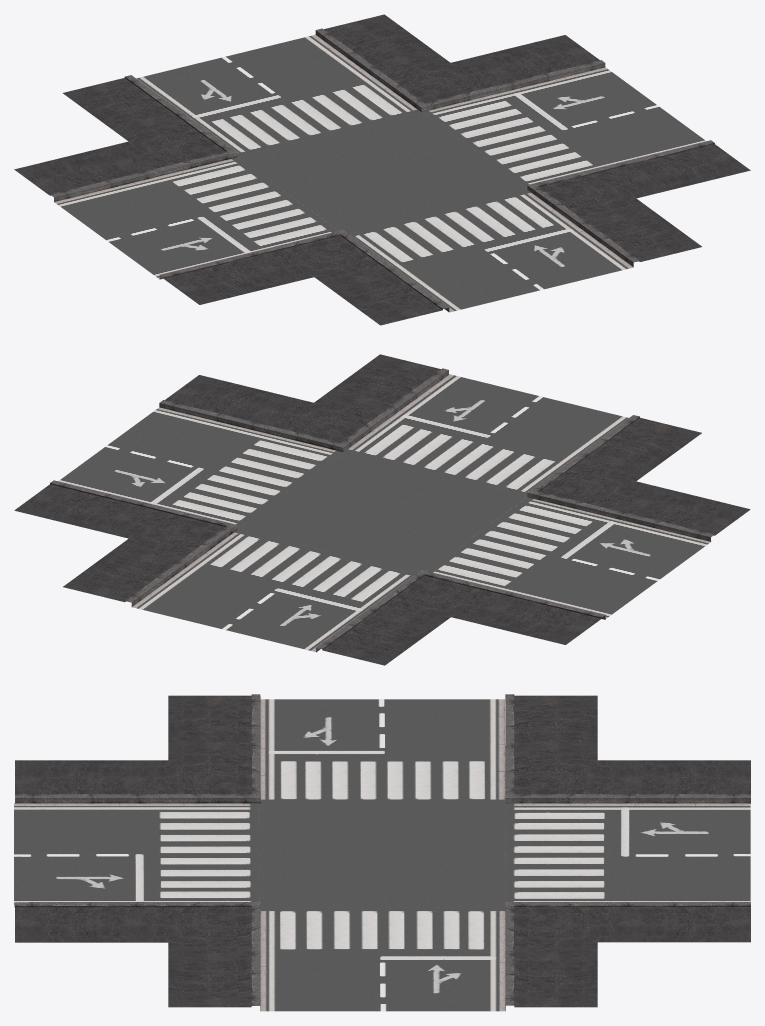
File: 2 lines cross intersection.FBX
3 renders of one model, top to bottom at view 1: azimuth 30°, elevation 25°; view 2: azimuth 150°, elevation 25°; view 3: azimuth 270°, elevation 25°, orthographic. The views are drawn at different scales.
Visible parts, largest first — view 1: Object004; view 2: Object004; view 3: Object004.
Part boxes in pixels (x1=…): Object004: x1=14, y1=14, x2=750, y2=325; Object004: x1=14, y1=354, x2=750, y2=665; Object004: x1=14, y1=694, x2=750, y2=1011.
Size of the model in its own units: 36 by 0.3187 by 35.96.
